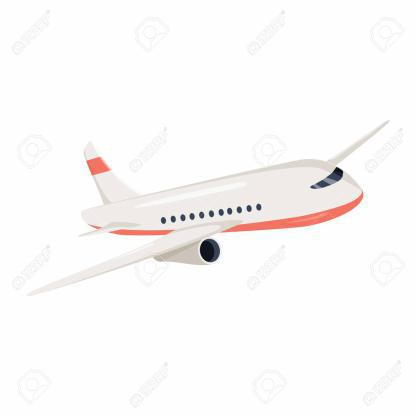CIV_Plane: (60, 115, 392, 294)
